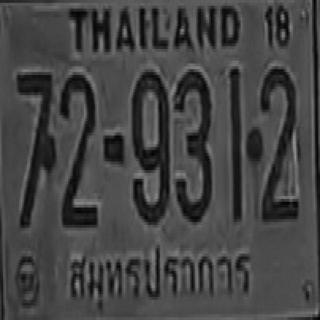N01: (229, 65, 242, 221)
N02: (258, 63, 297, 219), (59, 71, 96, 226)
N03: (174, 69, 212, 222)
N07: (15, 69, 53, 225)
N09: (131, 66, 169, 222)
P57: (64, 238, 252, 307)
